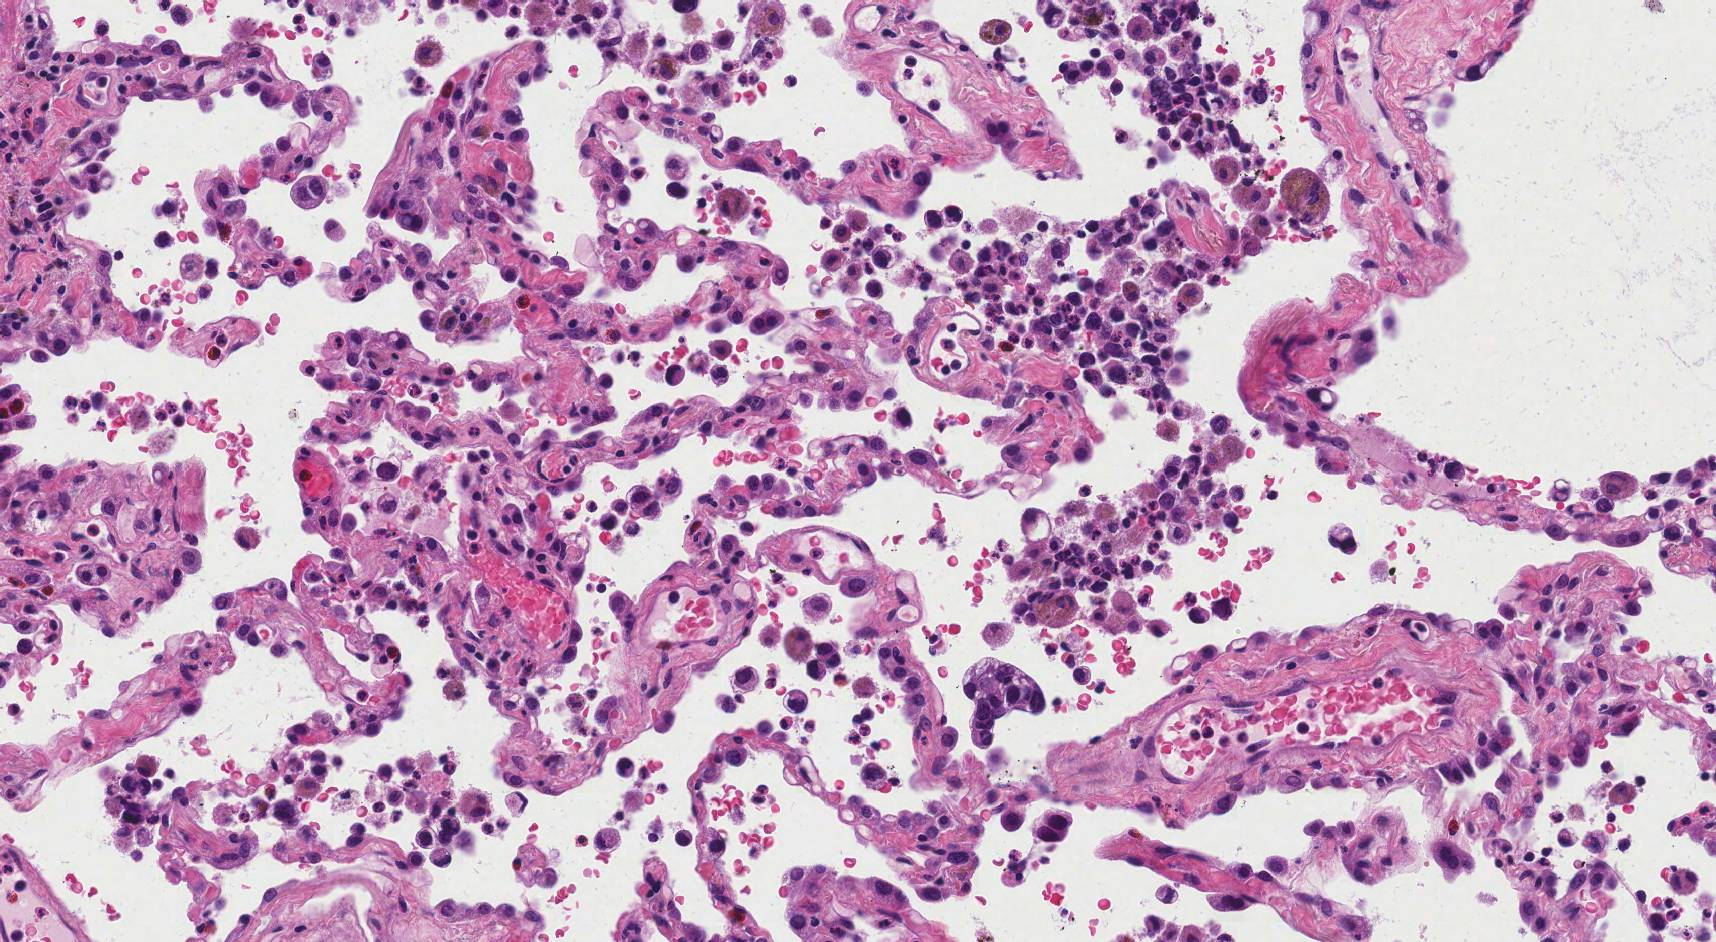stas: (961, 656, 1046, 747)
